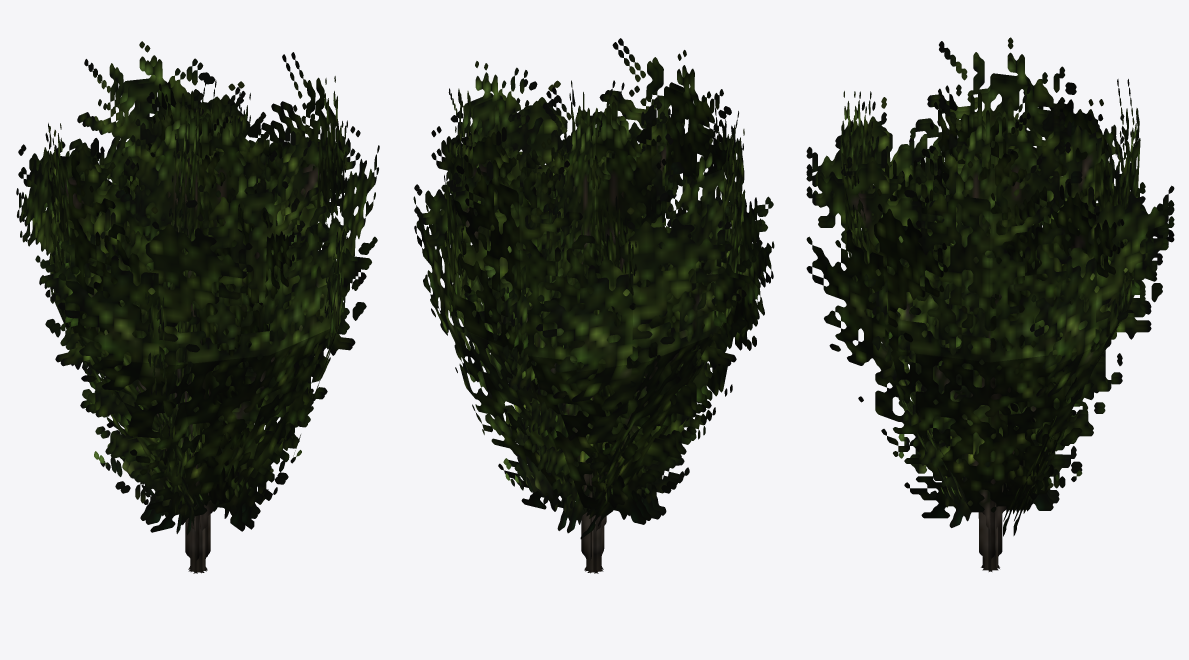
Rendered from karvand_mountain_scrub.glb.
3 views of the same model, side by side, from view 1: azimuth 30°, elevation 25°; view 2: azimuth 150°, elevation 25°; view 3: azimuth 270°, elevation 25° (orthographic).
Visible parts, largest first — view 1: bush1; view 2: bush1; view 3: bush1.
Boxes of the visible parts, x1,y1,x2,y2 form: bush1: (16,41,379,573); bush1: (413,38,774,573); bush1: (806,37,1174,571).
Bounding box in the file's own units: 0.7 × 1 × 0.7.
1 material, 1 textured.
